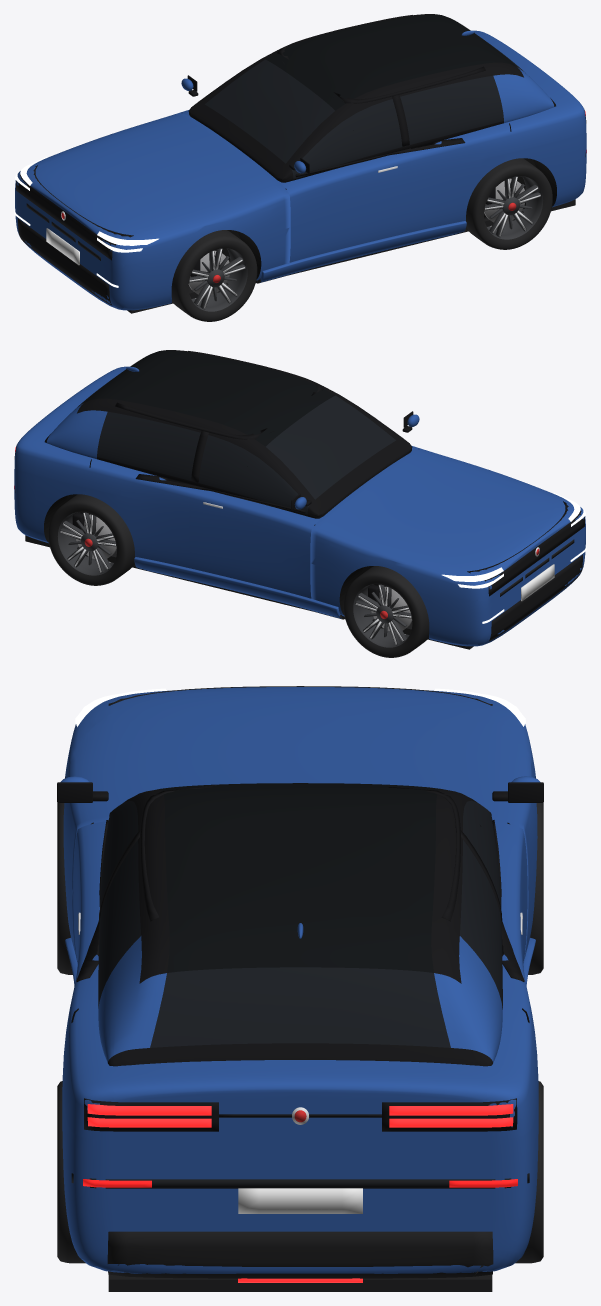
The model's file is hatchback.glb.
3 renders of one model, top to bottom at view 1: azimuth 30°, elevation 25°; view 2: azimuth 150°, elevation 25°; view 3: azimuth 270°, elevation 25°, orthographic. The views are drawn at different scales.
Parts seen in each view (by area): view 1: hood_panel.002, roof_glass.002, side_windows_left_glass.002, door_front_left_panel.002, bumper_front_panel.002, windshield_glass.002, door_rear_left_panel.001, fender_front_left_panel.002, fender_rear_left_panel.002, wheel_rear_left_tire.002, wheel_front_left_tire.002, side_skirt_left.002 (+17 smaller); view 2: hood_panel.002, roof_glass.002, side_windows_right_glass.002, door_front_right_panel.002, bumper_front_panel.002, windshield_glass.002, door_rear_right_panel.001, fender_front_right_panel.002, fender_rear_right_panel.002, wheel_rear_right_tire.002, wheel_front_right_tire.002, side_skirt_right.002 (+17 smaller); view 3: roof_glass.002, trunk_panel.002, hood_panel.002, bumper_rear_panel.002, rear_window_glass.002, diffuser.013, side_windows_left_glass.002, side_windows_right_glass.002, fender_rear_right_panel.002, fender_rear_left_panel.002, fender_front_right_panel.002, fender_front_left_panel.002 (+22 smaller).
Boxes of the visible parts, x1,y1,x2,y2 form: hood_panel.002: (46,115,280,230); roof_glass.002: (265,14,554,122); side_windows_left_glass.002: (229,62,555,182); door_front_left_panel.002: (281,152,411,262); bumper_front_panel.002: (15,154,169,309); windshield_glass.002: (205,59,334,170); door_rear_left_panel.001: (407,123,513,232); fender_front_left_panel.002: (143,183,290,302); fender_rear_left_panel.002: (504,100,586,206); wheel_rear_left_tire.002: (466,158,552,249); wheel_front_left_tire.002: (171,230,257,321); side_skirt_left.002: (260,221,466,282); hood_panel.002: (320,451,554,566); roof_glass.002: (46,350,335,458); side_windows_right_glass.002: (44,398,368,518); door_front_right_panel.002: (189,488,319,598); bumper_front_panel.002: (431,490,585,645); windshield_glass.002: (266,395,395,506); door_rear_right_panel.001: (87,459,193,568); fender_front_right_panel.002: (310,519,457,638); fender_rear_right_panel.002: (14,436,96,542); wheel_rear_right_tire.002: (48,494,134,585); wheel_front_right_tire.002: (343,566,429,657); side_skirt_right.002: (134,557,341,618); roof_glass.002: (98,783,502,1063); trunk_panel.002: (114,1060,486,1179); hood_panel.002: (114,688,486,808); bumper_rear_panel.002: (63,1156,537,1273); rear_window_glass.002: (150,967,450,1047); diffuser.013: (107,1231,493,1278); side_windows_left_glass.002: (98,789,300,1066); side_windows_right_glass.002: (300,789,502,1066); fender_rear_right_panel.002: (487,1016,538,1202); fender_rear_left_panel.002: (62,1016,113,1205); fender_front_right_panel.002: (487,713,537,961); fender_front_left_panel.002: (63,713,113,961).
Size of the model in its own units: 4.09 by 1.43 by 1.83.
